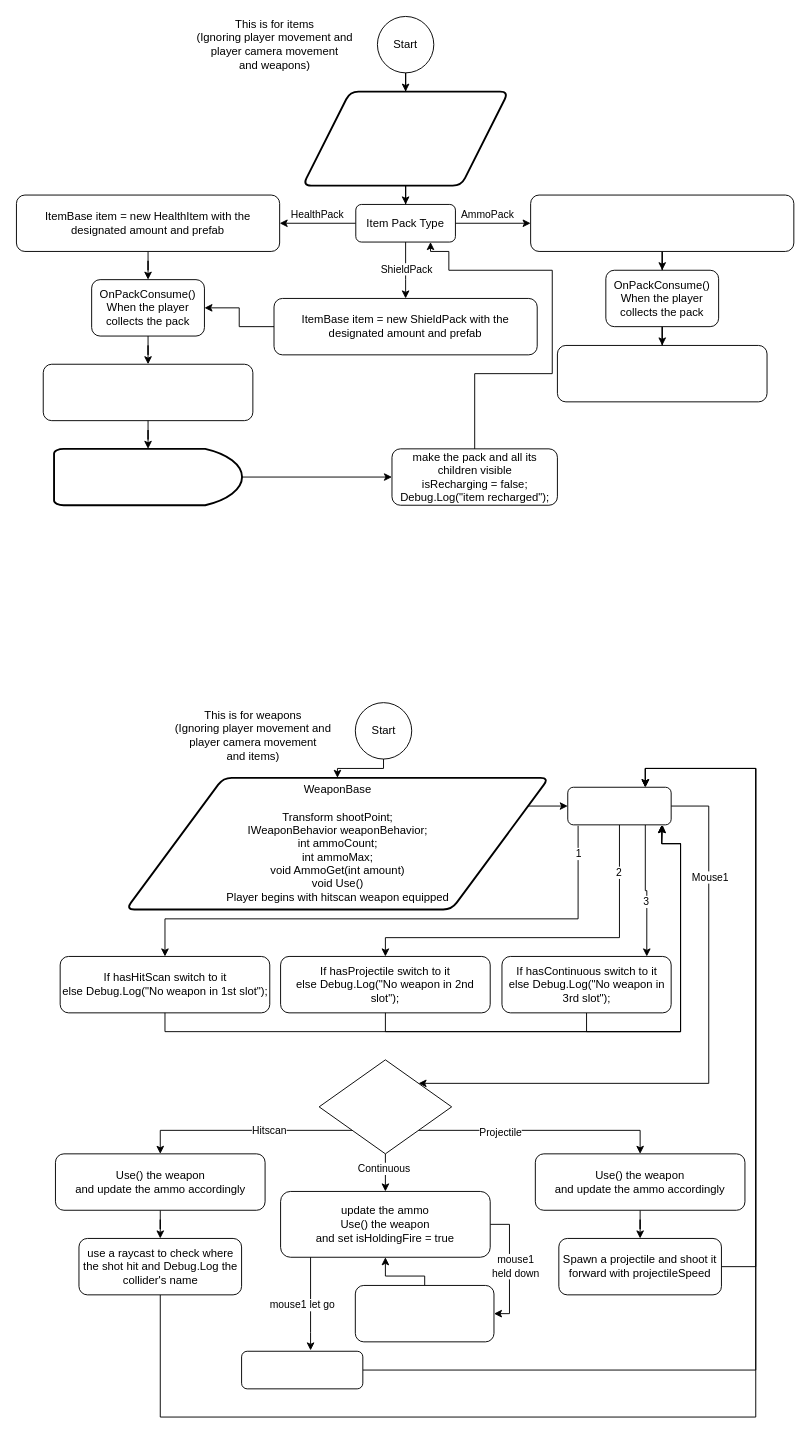
Image size: 810x1441. Some labels were removed from this diagram. Here are the shapes that lost their labels. From the top down, the centre of each, then its label:
At point 405,138: "ItemBase int packAmount; GameObject packPrefab; bool isRecharging = false;".
At point 662,222: "ItemBase item = new AmmoPack with the designated amount and prefab".
At point 147,392: "make the pack and all its children invisible isRecharging = true;".
At point 661,373: "Remove the pack packPrefab.gameObject.SetActive(false);".
At point 148,476: "Coroutine for recharging, waiting for itemPackSO.rechargeTime".
At point 619,805: "Get Player Input".
At point 385,1106: "What gun type is being held?".
At point 424,1313: "Spawn a fire Projectile and shoot it forward with fireSpeed".
At point 302,1369: "isHoldingFire = false;".
